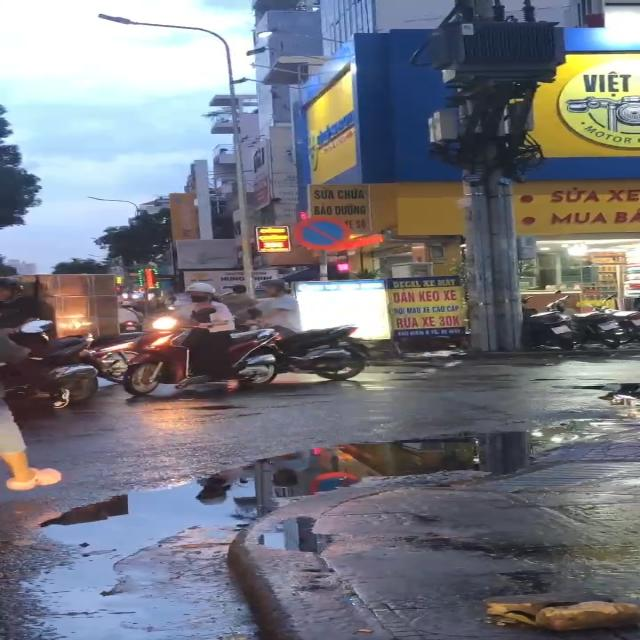Bien bao cam do xe: (291, 215, 355, 250)
